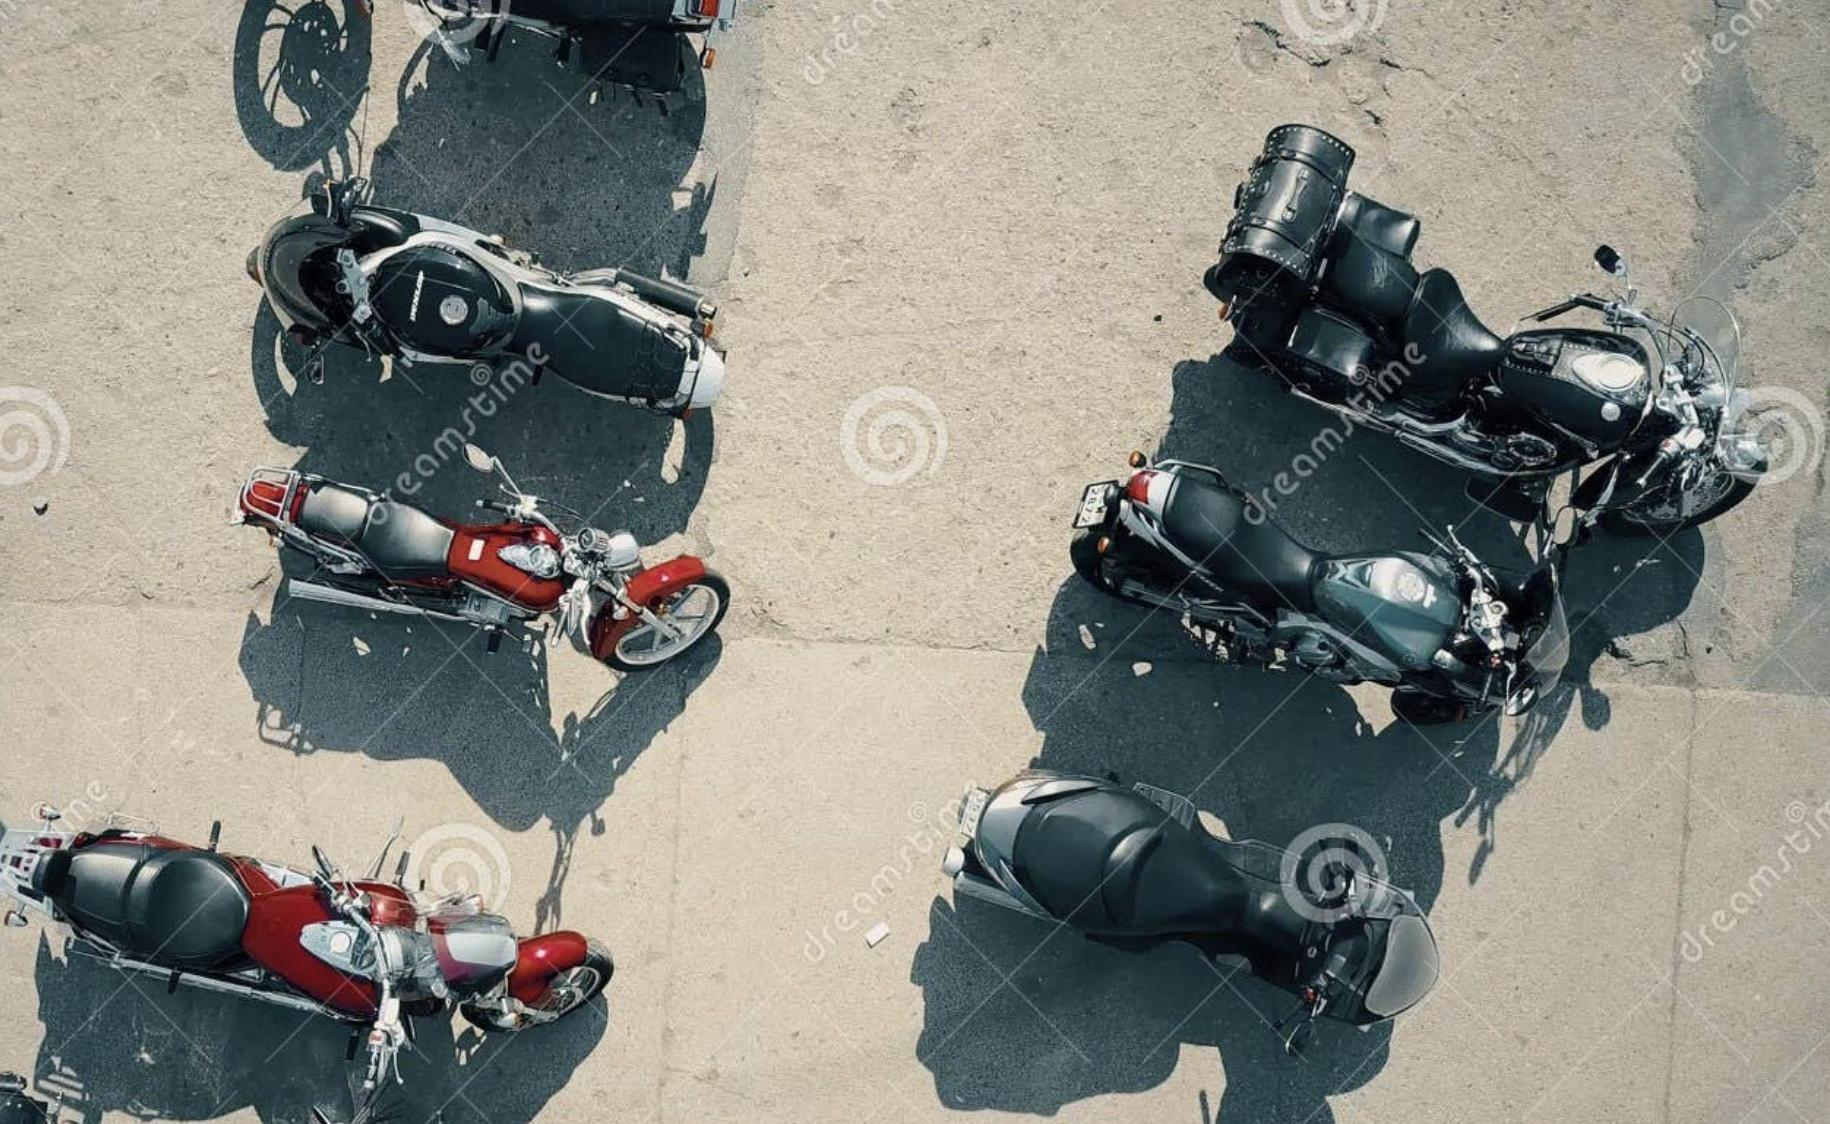Motorcycle: (1182, 118, 1783, 538), (0, 816, 617, 1102), (924, 759, 1454, 1065), (1068, 456, 1570, 733), (214, 174, 759, 420), (230, 461, 740, 677), (382, 0, 735, 114)
